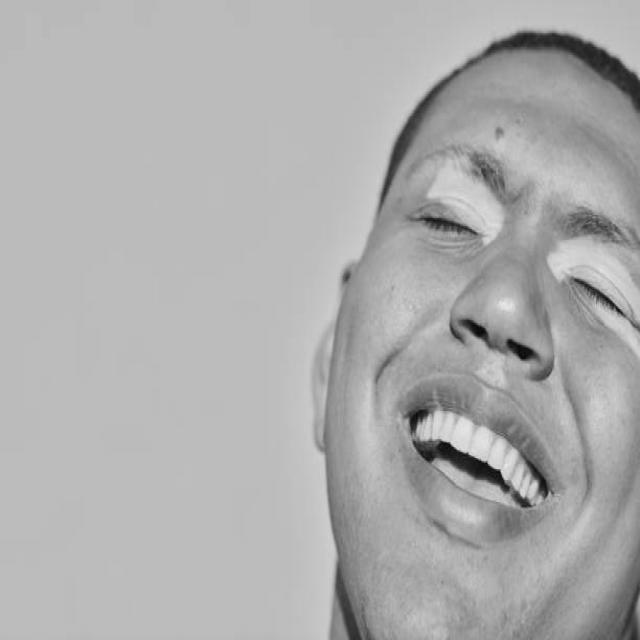real: (311, 26, 640, 640), (399, 143, 516, 266), (547, 198, 640, 350)
